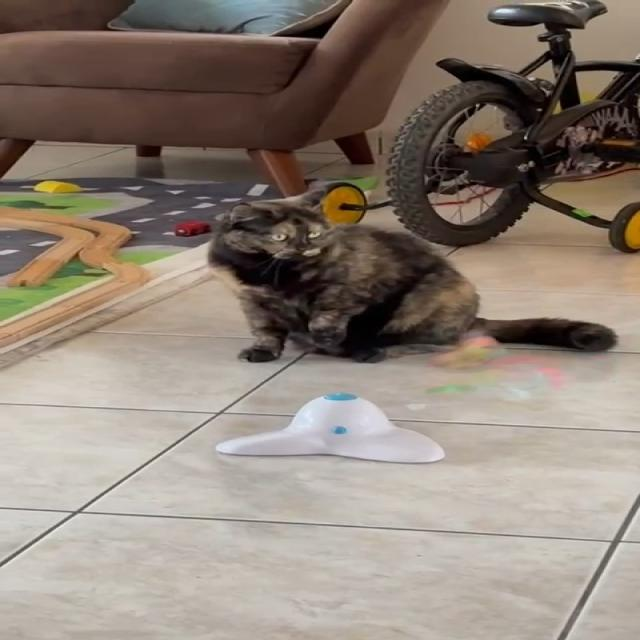authorized: (205, 178, 619, 365)
